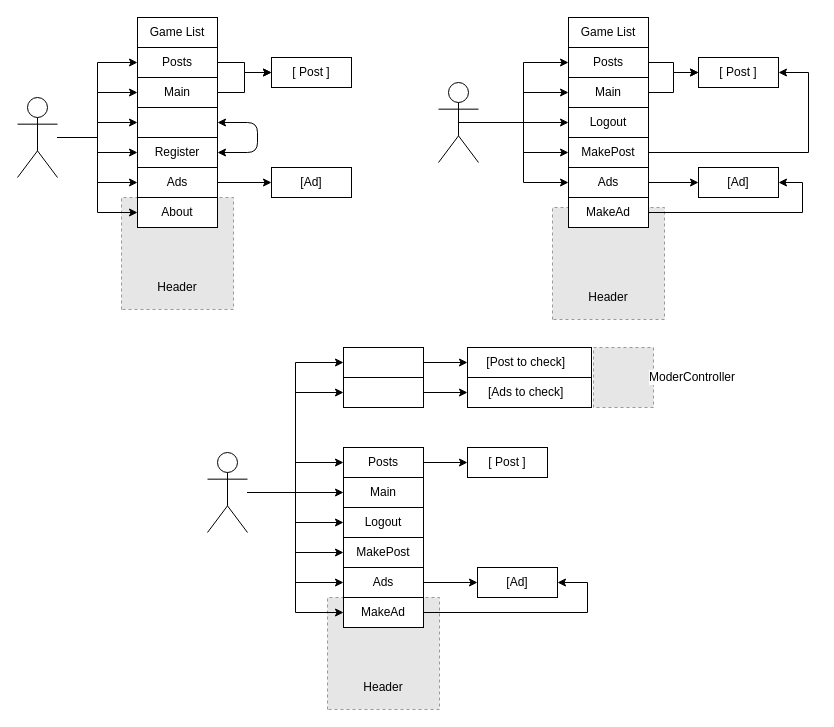
The diagram is 834 pixels wide and 727 high, and some of its shapes have lost their labels. Grey dashed boxes stand in for pictures. Here are the shapes that lost their labels. From the top down, the centre of each, then its label:
At [37,137]: "Guest".
At [177,122]: "Login".
At [458,122]: "User".
At [383,362]: "Check Posts".
At [383,392]: "Check Ads".
At [227,492]: "Moderathor".
